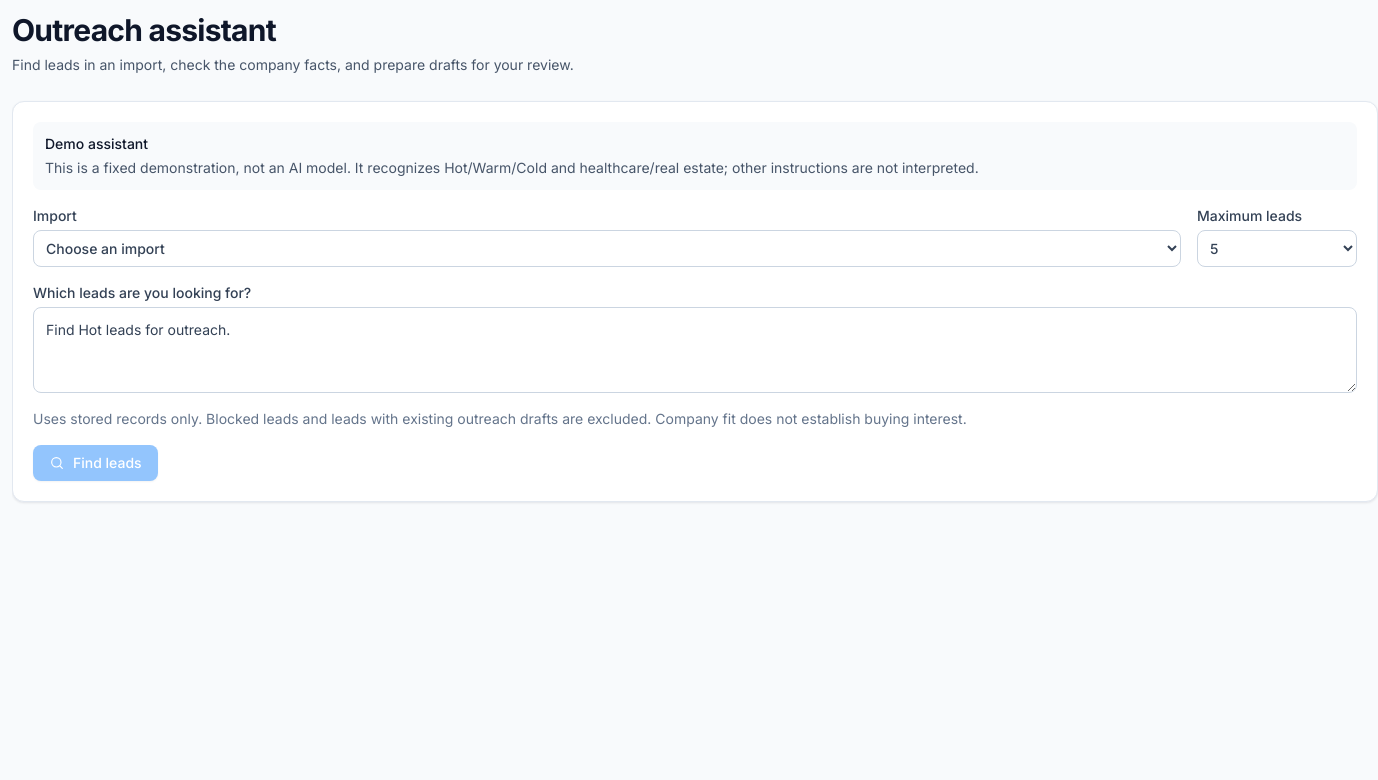
Scenario: Outreach assistant › clears a shortlist when the selected import changes
Expected: the text "Demo assistant" is shown, [45,135,148,152]
Select "Clinic import · 5 leads" in the dropdown labelled "Import": [607, 248] box [33,230,1181,267]
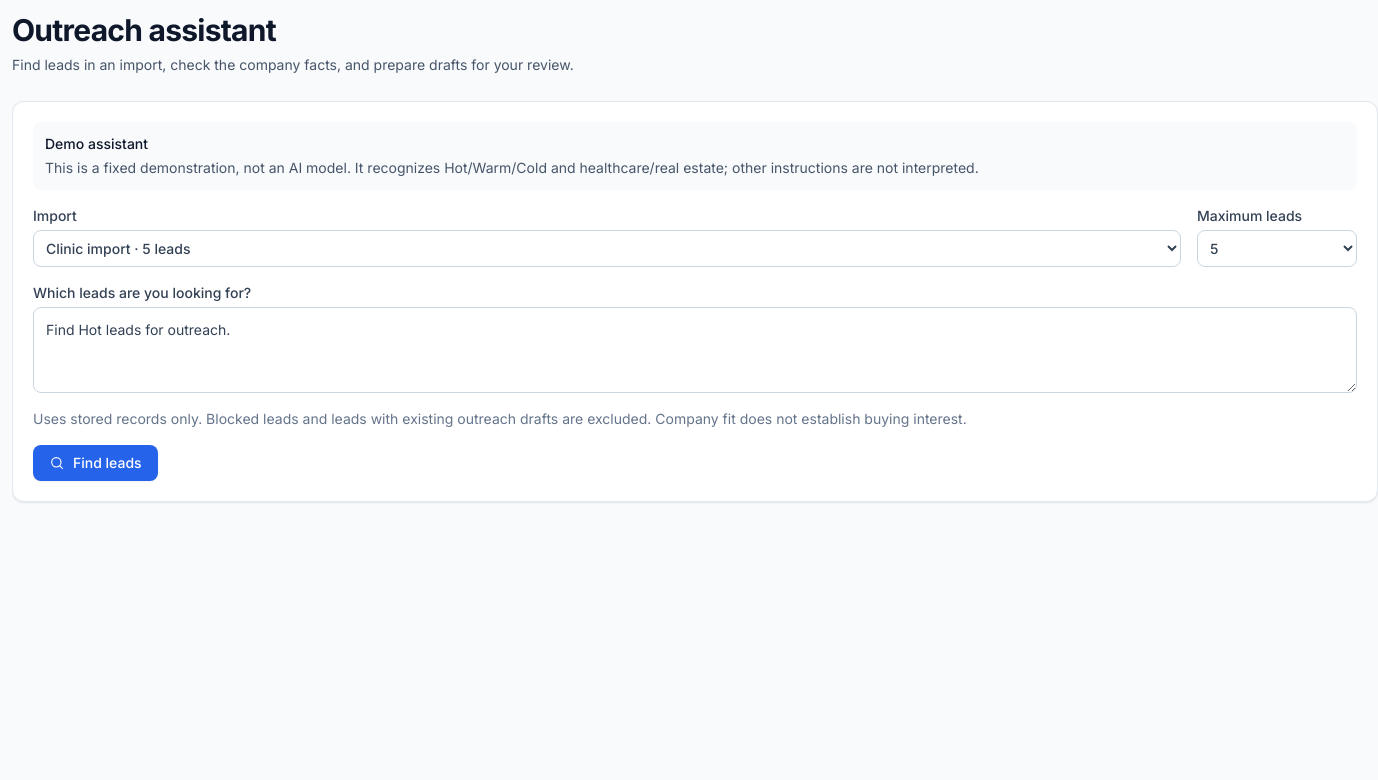
Click the button "Find leads": [95, 463] box [33,445,158,481]
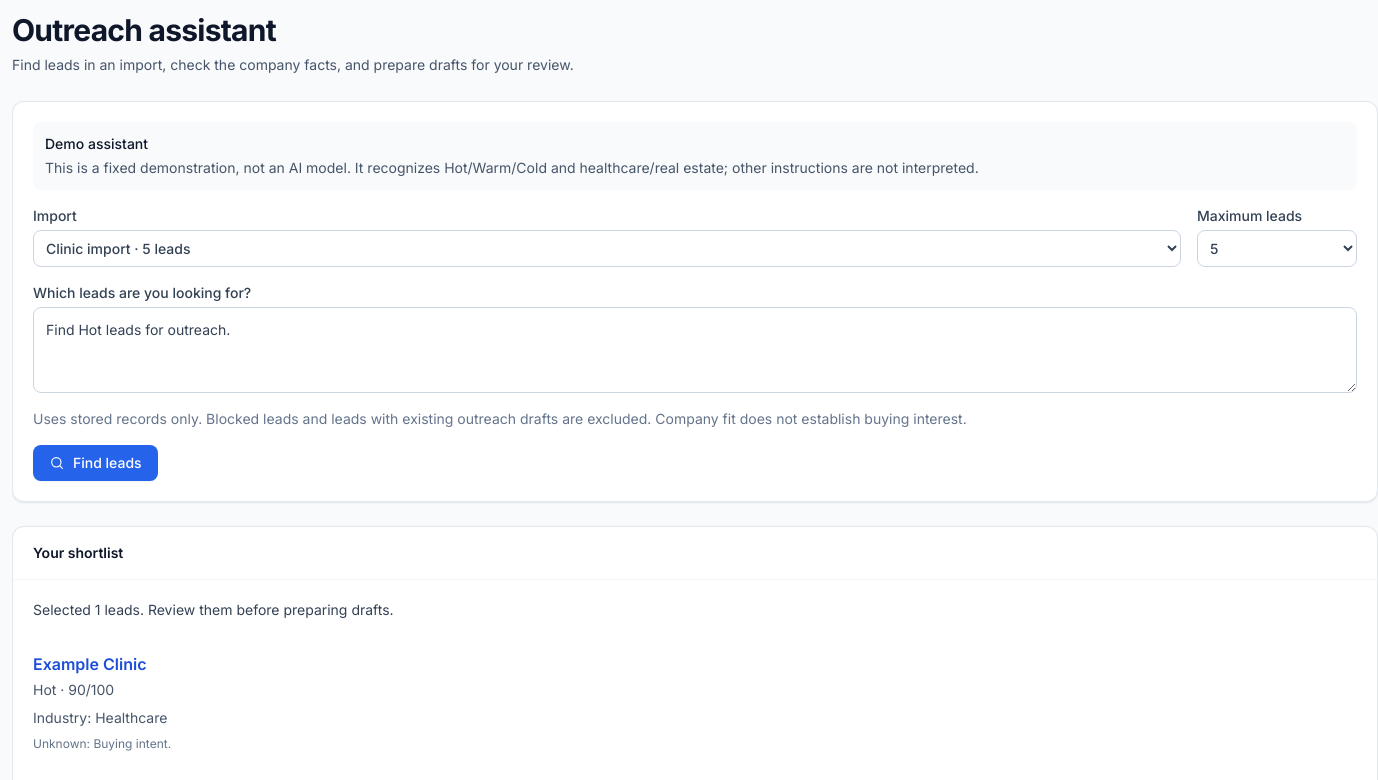
Expected: the heading "Your shortlist" is shown, [33,543,123,563]
Select "Other import · 3 leads" in the dropdown labelled "Import": [607, 248] box [33,230,1181,267]
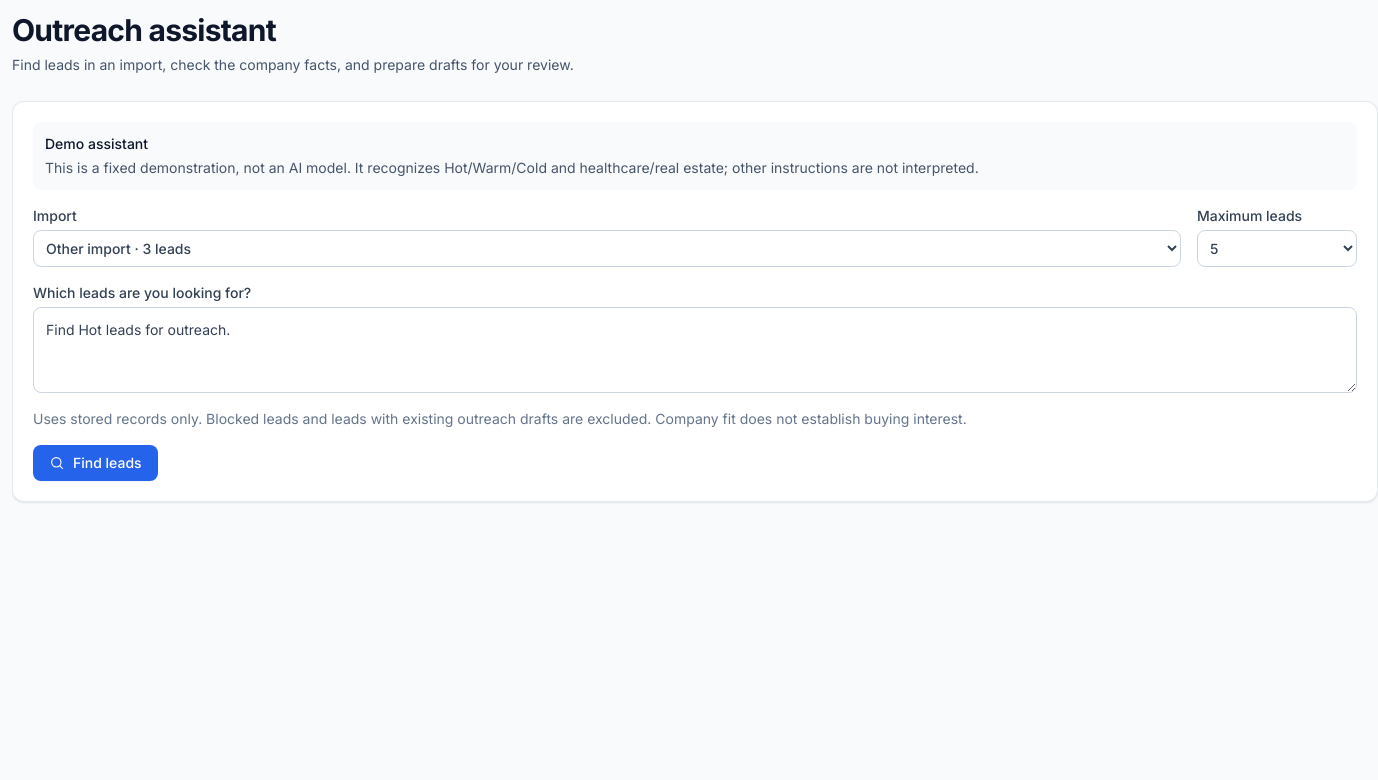
Expected: the heading "Your shortlist" is gone
